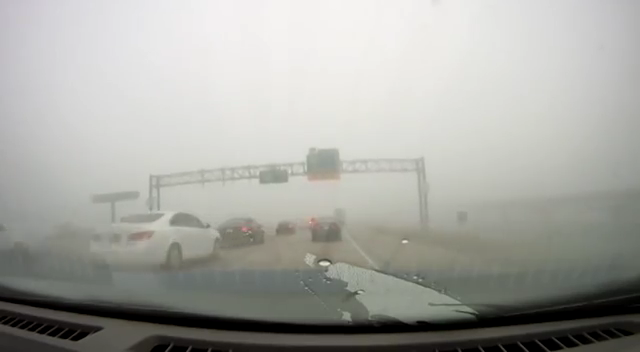car: (90, 210, 223, 267), (217, 216, 265, 244), (311, 218, 342, 242), (275, 221, 296, 234)
